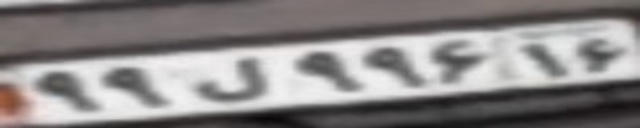1: (522, 42, 566, 76)
6: (431, 39, 484, 82), (574, 36, 624, 72)
9: (100, 65, 168, 106), (37, 68, 96, 111), (295, 52, 357, 91), (366, 47, 421, 86)
lam: (192, 57, 268, 101)
